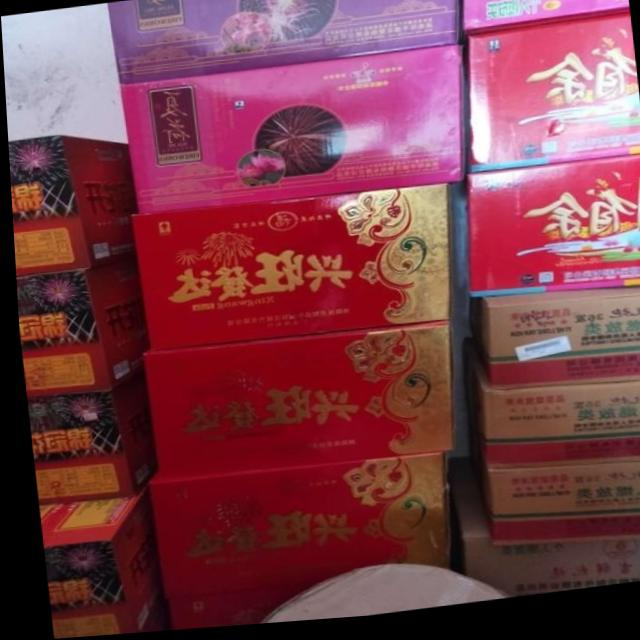box: (119, 51, 466, 217), (129, 190, 451, 352), (143, 459, 443, 632), (139, 326, 448, 480), (107, 0, 461, 85), (464, 22, 640, 180), (443, 464, 640, 604), (462, 164, 640, 304), (455, 343, 640, 477), (460, 425, 640, 553), (33, 479, 161, 639), (463, 294, 640, 397), (7, 136, 136, 275), (13, 260, 144, 396), (22, 370, 152, 504), (462, 0, 629, 43)
